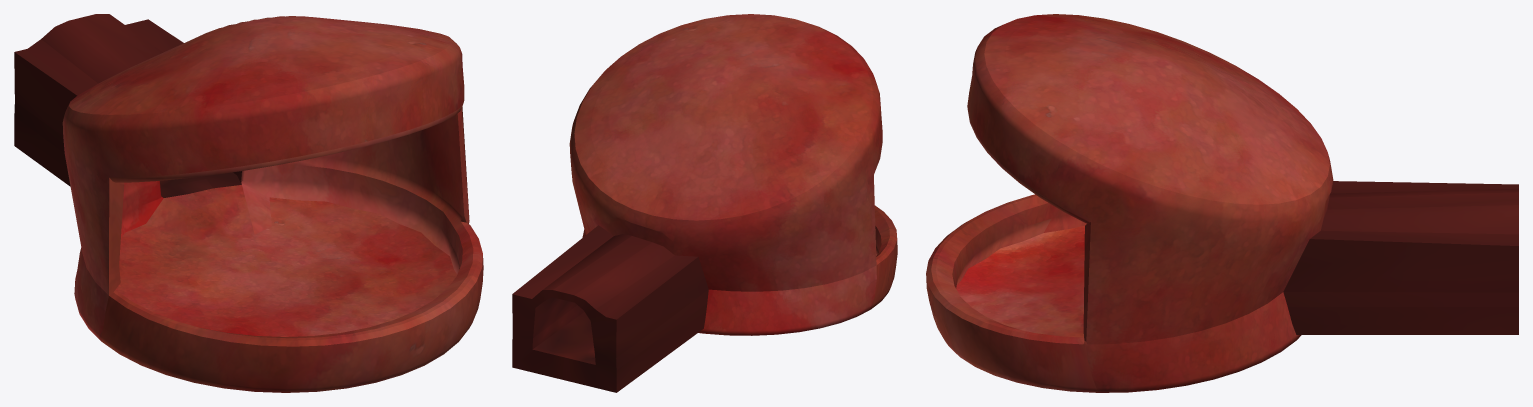
The model's file is OralCavity.fbx.
The picture shows the model from 3 angles, left to right: view 1: azimuth 30°, elevation 25°; view 2: azimuth 150°, elevation 25°; view 3: azimuth 270°, elevation 25°; orthographic projection. The views are drawn at different scales.
Parts seen in each view (by area): view 1: polySurface89; view 2: polySurface89; view 3: polySurface89.
Part boxes in pixels (box(x1,y1,x2,y2)): polySurface89: box(14, 14, 483, 392); polySurface89: box(512, 14, 897, 392); polySurface89: box(926, 14, 1518, 392).
Size of the model in its own units: 355 by 279 by 551.
1 material, 1 textured.
